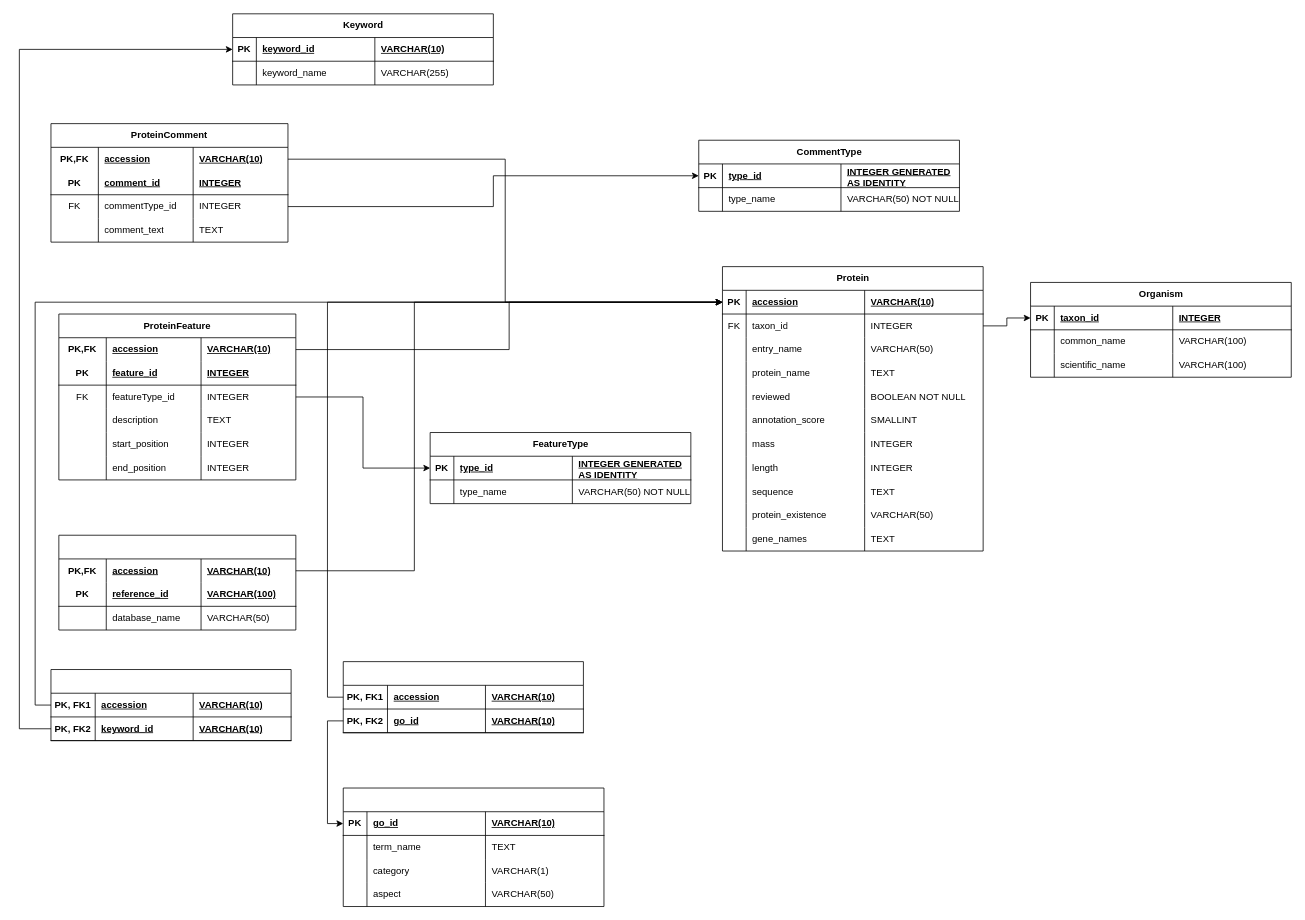
The diagram is 1305 pixels wide and 920 high, and some of its shapes have lost their labels. Each missing label, with the box of its shape:
annotated_with: (342, 661, 583, 733)
CrossReference: (58, 534, 296, 630)
GoTerm: (342, 787, 604, 907)
tagged_with: (50, 669, 291, 741)
